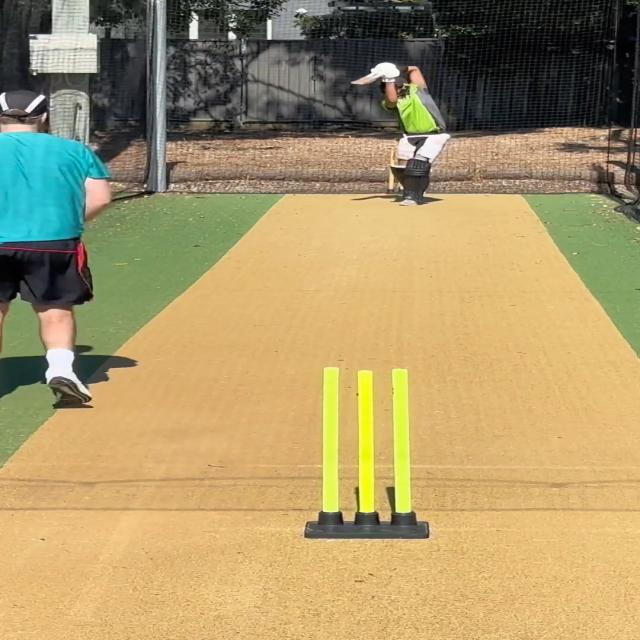stump: (306, 366, 426, 540)
